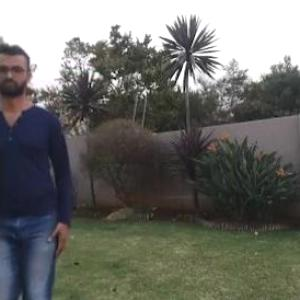follow: (1, 60, 68, 299)
